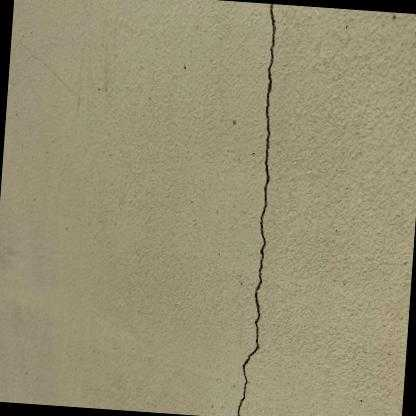crack: (237, 4, 275, 416)
